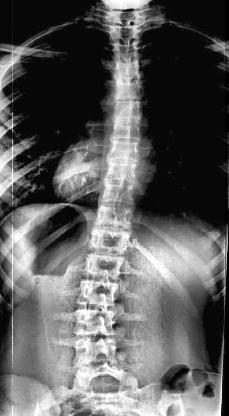Vertebrae: (70, 370, 140, 394), (73, 340, 129, 368), (72, 309, 124, 337), (74, 278, 121, 308), (82, 252, 128, 282), (101, 158, 143, 186), (104, 138, 146, 166), (89, 222, 128, 252), (96, 182, 138, 208), (93, 202, 135, 226), (106, 118, 140, 146), (113, 61, 145, 85), (110, 82, 144, 104), (110, 102, 140, 124), (111, 26, 143, 46), (114, 46, 142, 64)
